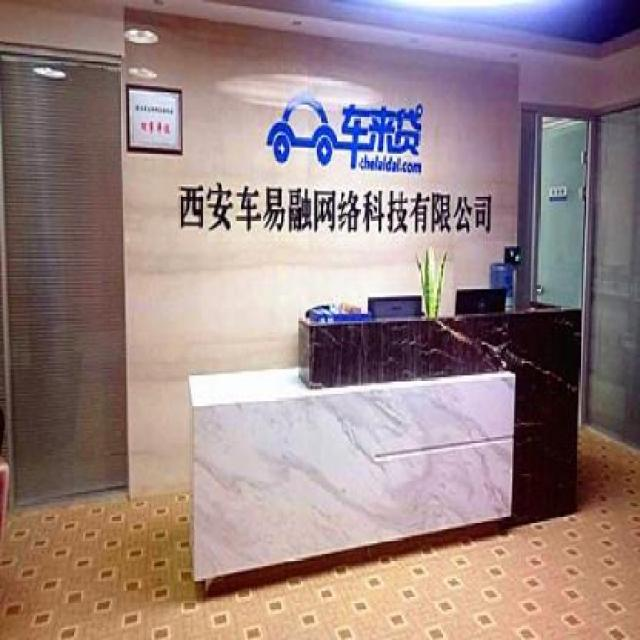frontdesk: (179, 285, 586, 610)
